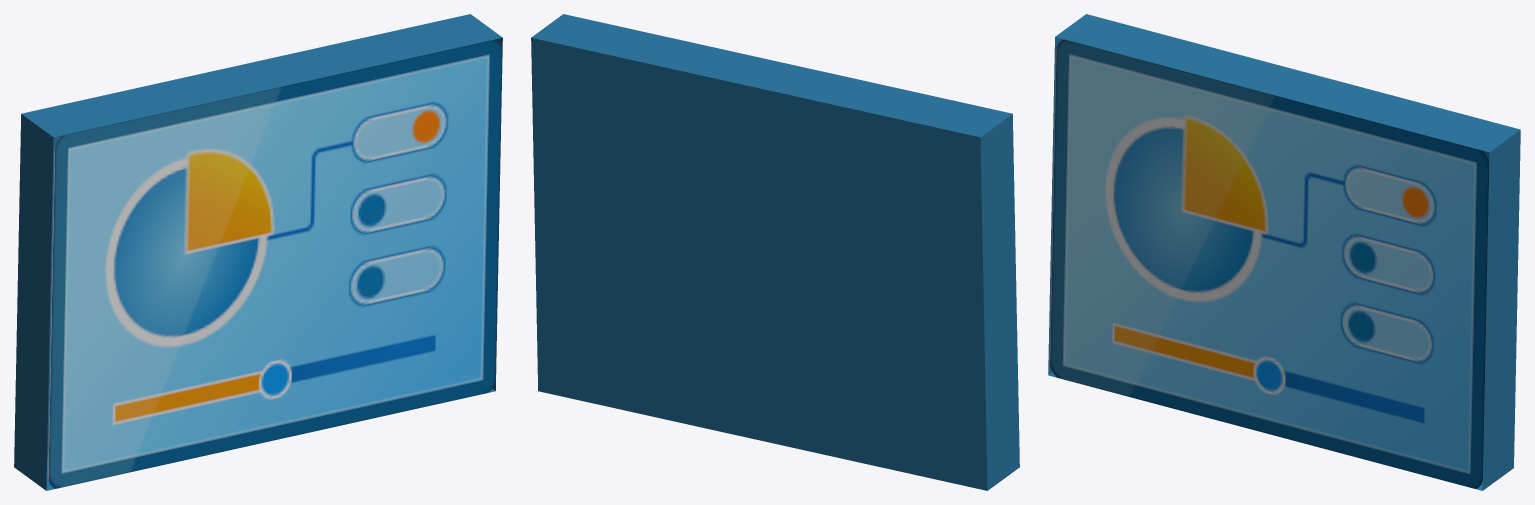
The model's file is ControlPanel.fbx.
3 renders of one model, left to right at view 1: azimuth 30°, elevation 25°; view 2: azimuth 150°, elevation 25°; view 3: azimuth 330°, elevation 25°, orthographic. The views are drawn at different scales.
Parts seen in each view (by area): view 1: Cube; view 2: Cube; view 3: Cube.
Boxes of the visible parts, x1=… form: Cube: x1=14, y1=14, x2=502, y2=490; Cube: x1=531, y1=14, x2=1019, y2=490; Cube: x1=1048, y1=14, x2=1520, y2=490.
Bounding box in the file's own units: 407 × 308 × 50.
2 materials, 1 textured.
